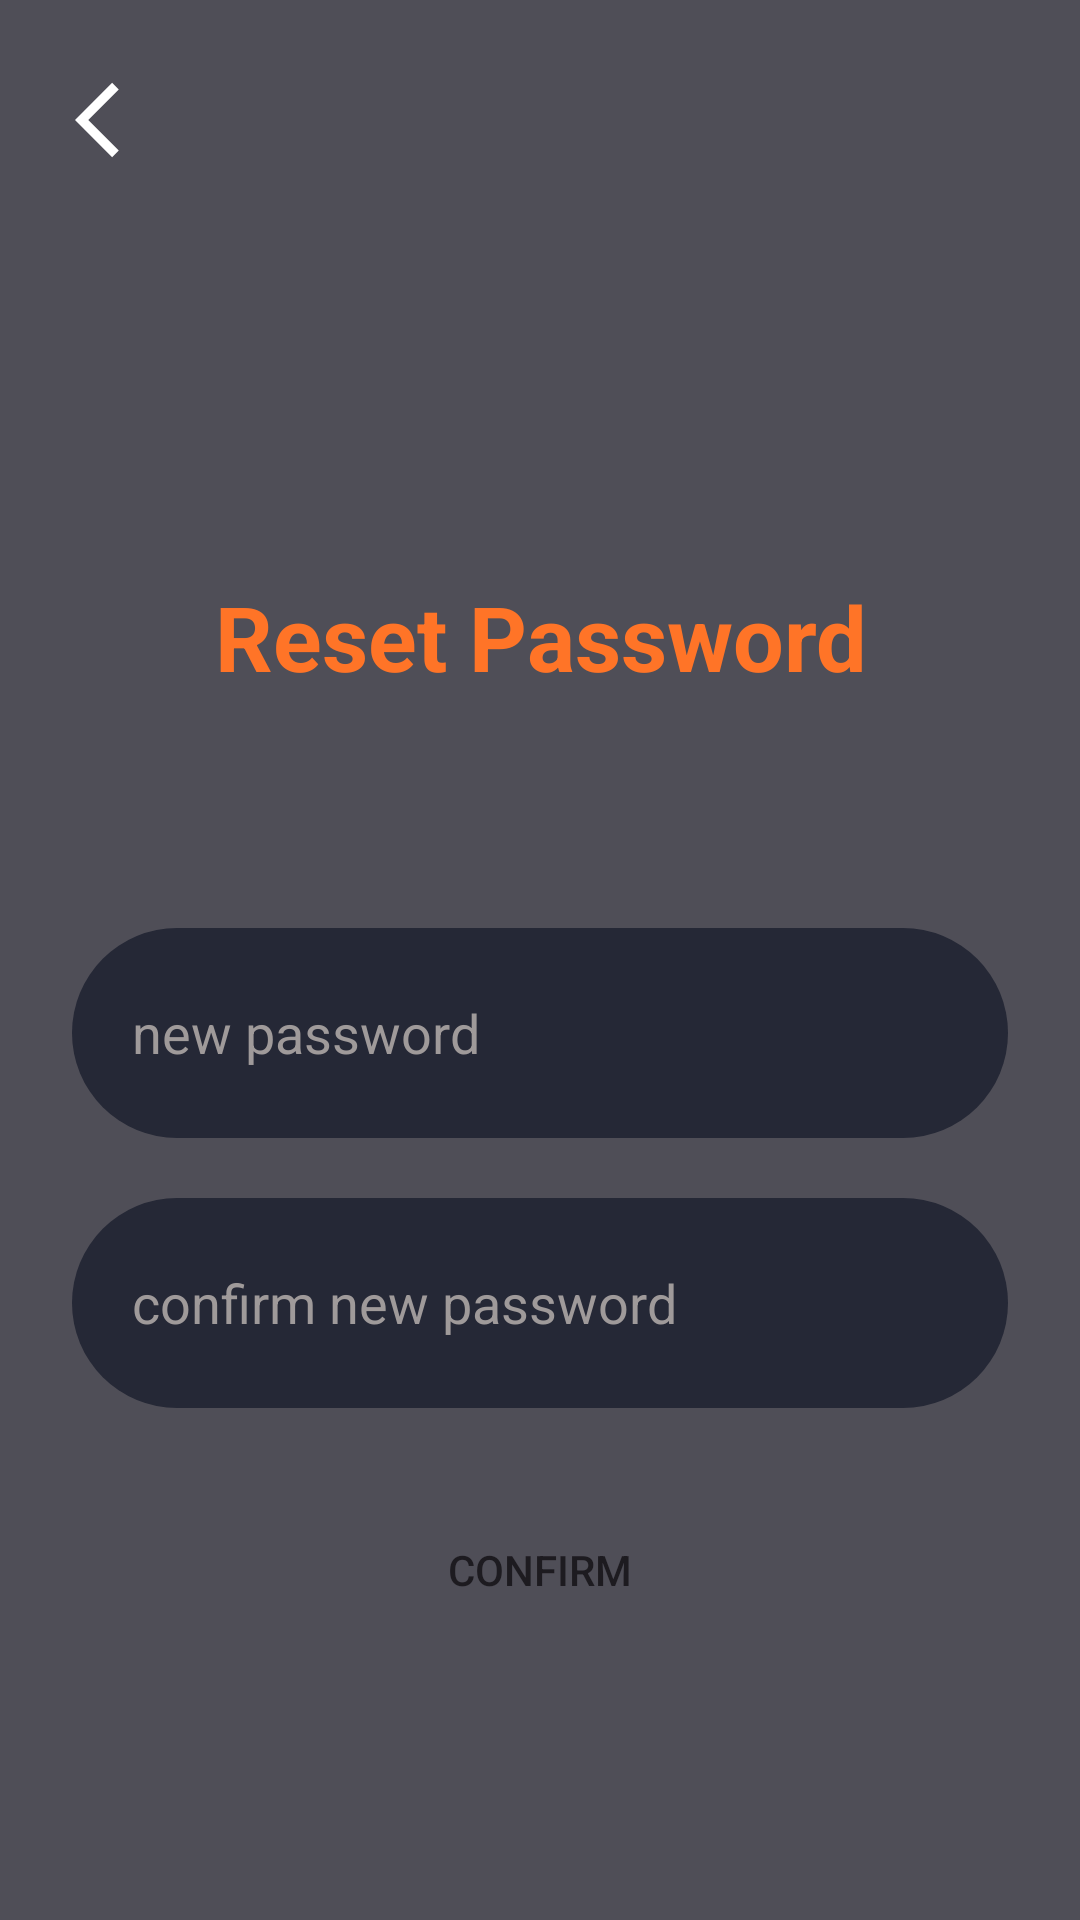

Icon bounding boxes for this 1080px x 1920px phone screenshot, format (x1, y1, x2, y2):
arrow back: (75, 83, 119, 157)
